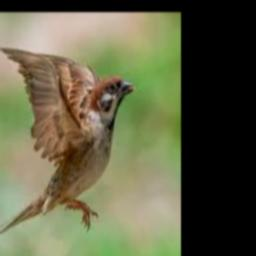Sparrow: (0, 47, 137, 237)
